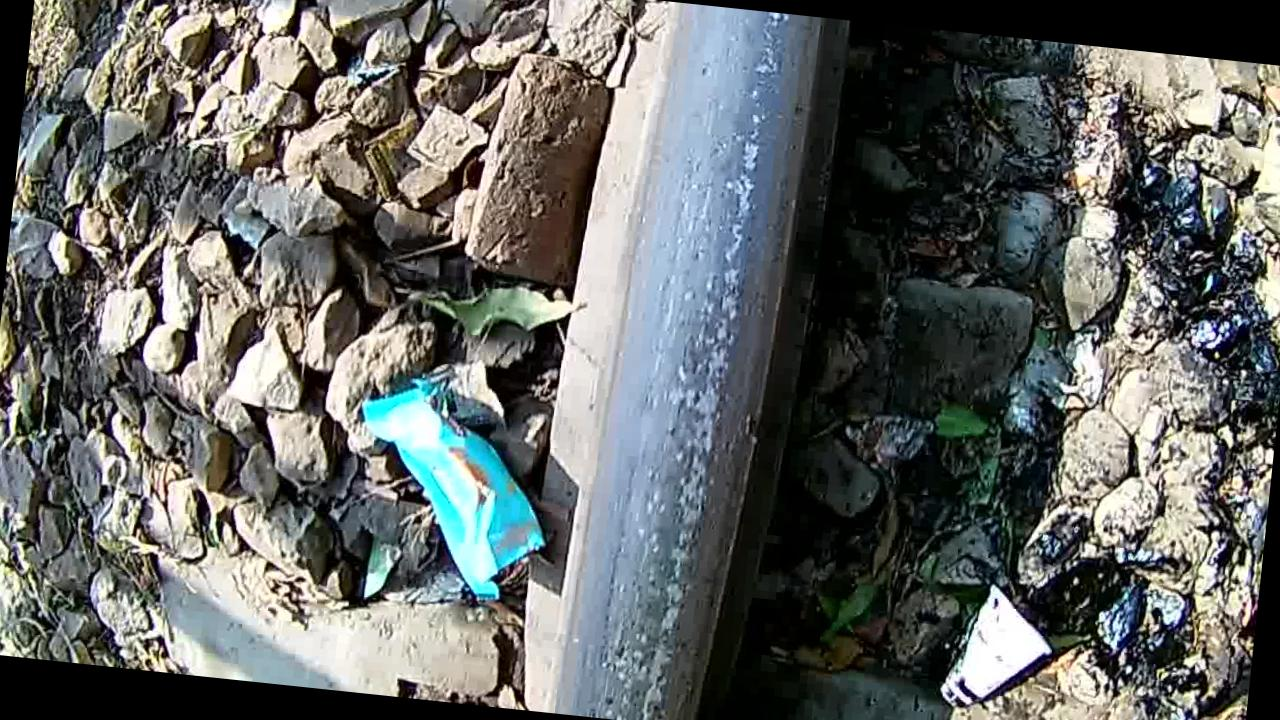clip_missing: (564, 0, 841, 720)
